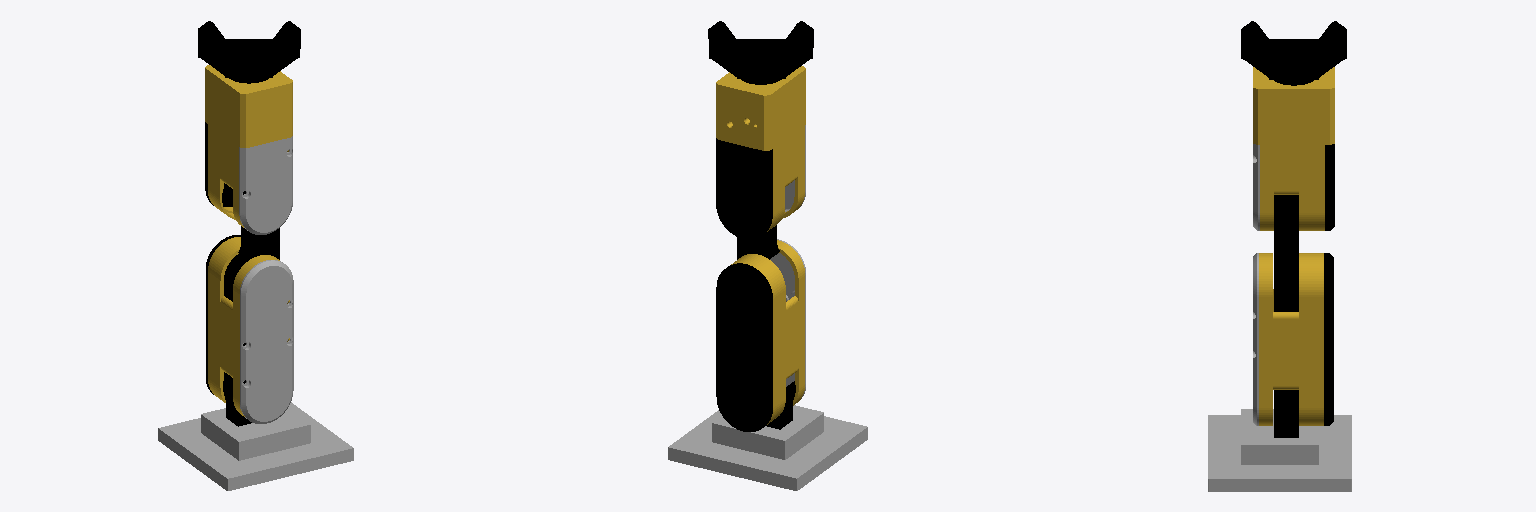
--- What the picture shows (computed from the rendered views, not written in the file) ---
The picture shows the robot from 3 angles, left to right: view 1: azimuth 30°, elevation 25°; view 2: azimuth 150°, elevation 25°; view 3: azimuth 270°, elevation 25°; orthographic projection.
Robot: Arm1 — 17 links, 16 joints (3 revolute, 1 continuous, 12 fixed); root link base_link; default pose: all joints at 0.
Links seen in each view (by area): view 1: base_link, Arm1_Fusion2URDF_Arm1_de-featured_doubleJoint_gearCover_v1_v1_1, Arm1_Fusion2URDF_Arm1_de-featured_gearCover_v1_v1_1, Arm1_Fusion2URDF_Arm1_de-featured_wristHousing_v1_v1_1, Arm1_de-featured_doubleJoint_bearingSupport_v1_1, Arm1_Fusion2URDF_EF_base_v1_v1_1, Arm1_Fusion2URDF_Arm1_de-featured_wristCover_v1_v1_1, Arm1_Fusion2URDF_Arm1_de-featured_armHousing_v1_v1_1, Arm1_Fusion2URDF_Arm1_de-featured_armHousing_v1__1__v1_1, Arm1_Fusion2URDF_Arm1_de-featured_bearingSupport_v1_v1_1, Arm1_Fusion2URDF_Arm1_de-featured_doubleJoint_electronicsCover_v, Arm1_Fusion2URDF_Arm1_de-featured_elbow_v1_v1_1 (+3 smaller); view 2: base_link, Arm1_Fusion2URDF_Arm1_de-featured_doubleJoint_electronicsCover_v, Arm1_Fusion2URDF_Arm1_de-featured_electronicsCover_v1_v1_v1_1, Arm1_Fusion2URDF_Arm1_de-featured_wristHousing_v1_v1_1, Arm1_de-featured_doubleJoint_bearingSupport_v1_1, Arm1_Fusion2URDF_EF_base_v1_v1_1, Arm1_Fusion2URDF_Arm1_de-featured_armHousing_v1_v1_1, Arm1_Fusion2URDF_Arm1_de-featured_wristCover_v1_v1_1, Arm1_Fusion2URDF_Arm1_de-featured_armHousing_v1__1__v1_1, Arm1_Fusion2URDF_Arm1_de-featured_bearingSupport_v1_v1_1, Arm1_Fusion2URDF_Arm1_de-featured_elbow_v1_v1_1, Arm1_Fusion2URDF_Arm1_de-featured_doubleJoint_gearCover_v1_v1_1 (+3 smaller); view 3: base_link, Arm1_Fusion2URDF_Arm1_de-featured_armHousing_v1_v1_1, Arm1_de-featured_doubleJoint_bearingSupport_v1_1, Arm1_Fusion2URDF_Arm1_de-featured_elbow_v1_v1_1, Arm1_Fusion2URDF_Arm1_de-featured_armHousing_v1__1__v1_1, Arm1_Fusion2URDF_Arm1_de-featured_wristHousing_v1_v1_1, Arm1_Fusion2URDF_EF_base_v1_v1_1, Arm1_Fusion2URDF_Arm1_de-featured_bearingSupport_v1_v1_1, Arm1_Fusion2URDF_Arm1_de-featured_wristCover_v1_v1_1, Arm1_Fusion2URDF_Arm1_de-featured_doubleJoint_electronicsCover_v, Arm1_de-featured_base_v1_1, Arm1_Fusion2URDF_Arm1_de-featured_doubleJoint_gearCover_v1_v1_1 (+5 smaller).
Link boxes in pixels (x1,y1,x2,y2): base_link: (158, 402, 353, 490); Arm1_Fusion2URDF_Arm1_de-featured_doubleJoint_gearCover_v1_v1_1: (240, 260, 293, 423); Arm1_Fusion2URDF_Arm1_de-featured_gearCover_v1_v1_1: (239, 136, 292, 234); Arm1_Fusion2URDF_Arm1_de-featured_wristHousing_v1_v1_1: (205, 85, 292, 141); Arm1_de-featured_doubleJoint_bearingSupport_v1_1: (208, 237, 240, 402); Arm1_Fusion2URDF_EF_base_v1_v1_1: (201, 39, 296, 83); Arm1_Fusion2URDF_Arm1_de-featured_wristCover_v1_v1_1: (205, 65, 292, 110); Arm1_Fusion2URDF_Arm1_de-featured_armHousing_v1_v1_1: (220, 255, 289, 416); Arm1_Fusion2URDF_Arm1_de-featured_armHousing_v1__1__v1_1: (220, 127, 292, 227); Arm1_Fusion2URDF_Arm1_de-featured_bearingSupport_v1_v1_1: (205, 116, 235, 219); Arm1_Fusion2URDF_Arm1_de-featured_doubleJoint_electronicsCover_v: (206, 235, 248, 394); Arm1_Fusion2URDF_Arm1_de-featured_elbow_v1_v1_1: (238, 226, 279, 259); base_link: (668, 405, 867, 490); Arm1_Fusion2URDF_Arm1_de-featured_doubleJoint_electronicsCover_v: (716, 263, 772, 431); Arm1_Fusion2URDF_Arm1_de-featured_electronicsCover_v1_v1_v1_1: (716, 138, 772, 239); Arm1_Fusion2URDF_Arm1_de-featured_wristHousing_v1_v1_1: (716, 87, 805, 144); Arm1_de-featured_doubleJoint_bearingSupport_v1_1: (731, 254, 785, 424); Arm1_Fusion2URDF_EF_base_v1_v1_1: (712, 39, 809, 84); Arm1_Fusion2URDF_Arm1_de-featured_armHousing_v1_v1_1: (777, 240, 804, 405); Arm1_Fusion2URDF_Arm1_de-featured_wristCover_v1_v1_1: (716, 66, 805, 112); Arm1_Fusion2URDF_Arm1_de-featured_armHousing_v1__1__v1_1: (782, 118, 805, 218); Arm1_Fusion2URDF_Arm1_de-featured_bearingSupport_v1_v1_1: (716, 131, 784, 231); Arm1_Fusion2URDF_Arm1_de-featured_elbow_v1_v1_1: (737, 225, 779, 259); Arm1_Fusion2URDF_Arm1_de-featured_doubleJoint_gearCover_v1_v1_1: (770, 239, 805, 398); base_link: (1208, 409, 1351, 491); Arm1_Fusion2URDF_Arm1_de-featured_armHousing_v1_v1_1: (1259, 253, 1298, 425); Arm1_de-featured_doubleJoint_bearingSupport_v1_1: (1299, 253, 1323, 425); Arm1_Fusion2URDF_Arm1_de-featured_elbow_v1_v1_1: (1274, 195, 1298, 311); Arm1_Fusion2URDF_Arm1_de-featured_armHousing_v1__1__v1_1: (1253, 137, 1298, 230); Arm1_Fusion2URDF_Arm1_de-featured_wristHousing_v1_v1_1: (1253, 105, 1334, 138); Arm1_Fusion2URDF_EF_base_v1_v1_1: (1244, 39, 1343, 85); Arm1_Fusion2URDF_Arm1_de-featured_bearingSupport_v1_v1_1: (1299, 137, 1334, 230); Arm1_Fusion2URDF_Arm1_de-featured_wristCover_v1_v1_1: (1253, 67, 1334, 106); Arm1_Fusion2URDF_Arm1_de-featured_doubleJoint_electronicsCover_v: (1324, 253, 1333, 425); Arm1_de-featured_base_v1_1: (1274, 390, 1298, 437); Arm1_Fusion2URDF_Arm1_de-featured_doubleJoint_gearCover_v1_v1_1: (1253, 253, 1258, 425).
Bounding box of the posed robot: 0.105 × 0.1 × 0.3255 m (x, y, z).
Meshes: 17 distinct files referenced, 17 mesh visuals loaded (17 binary STL).

URDF robot description (Arm1):
<?xml version="1.0" ?>
<!-- =================================================================================== -->
<!-- |    This document was autogenerated by xacro from [local-path]/ANT61/ANT61_ws/src/arm_description/urdf/Arm1.xacro | -->
<!-- |    EDITING THIS FILE BY HAND IS NOT RECOMMENDED                                 | -->
<!-- =================================================================================== -->
<robot name="Arm1">
    <material name="silver">
        <color rgba="0.700 0.700 0.700 1.000" />
    </material>
    <material name="gold">
        <color rgba="0.831 0.686 0.216 1.000" />
    </material>
    <material name="black">
        <color rgba="0 0 0 1.000" />
    </material>
    <material name="clear">
        <color rgba="0.7 0.7 0.7 0.6000" />
    </material>
    <transmission name="shoulder_tran">
        <type>transmission_interface/SimpleTransmission</type>
        <joint name="shoulder">
            <hardwareInterface>hardware_interface/PositionJointInterface</hardwareInterface>
        </joint>
        <actuator name="shoulder_actr">
            <hardwareInterface>hardware_interface/PositionJointInterface</hardwareInterface>
            <mechanicalReduction>1</mechanicalReduction>
        </actuator>
    </transmission>
    <transmission name="elbow_1_tran">
        <type>transmission_interface/SimpleTransmission</type>
        <joint name="elbow_1">
            <hardwareInterface>hardware_interface/PositionJointInterface</hardwareInterface>
        </joint>
        <actuator name="elbow_1_actr">
            <hardwareInterface>hardware_interface/PositionJointInterface</hardwareInterface>
            <mechanicalReduction>1</mechanicalReduction>
        </actuator>
    </transmission>
    <transmission name="elbow_2_tran">
        <type>transmission_interface/SimpleTransmission</type>
        <joint name="elbow_2">
            <hardwareInterface>hardware_interface/PositionJointInterface</hardwareInterface>
        </joint>
        <actuator name="elbow_2_actr">
            <hardwareInterface>hardware_interface/PositionJointInterface</hardwareInterface>
            <mechanicalReduction>1</mechanicalReduction>
        </actuator>
    </transmission>
    <transmission name="wrist_tran">
        <type>transmission_interface/SimpleTransmission</type>
        <joint name="wrist">
            <hardwareInterface>hardware_interface/PositionJointInterface</hardwareInterface>
        </joint>
        <actuator name="wrist_actr">
            <hardwareInterface>hardware_interface/PositionJointInterface</hardwareInterface>
            <mechanicalReduction>1</mechanicalReduction>
        </actuator>
    </transmission>
    <gazebo>
        <plugin filename="libgazebo_ros_control.so" name="control" />
        <plugin name="gazebo_ros_control" filename="libgazebo_ros_control.so">
            <robotNamespace>/</robotNamespace>
        </plugin>
    </gazebo>
    <gazebo reference="base_link">
        <material>Gazebo/Black</material>
        <mu1>0.2</mu1>
        <mu2>0.2</mu2>
        <selfCollide>true</selfCollide>
        <gravity>true</gravity>
    </gazebo>
    <gazebo reference="Arm1_de-featured_base_v1_1">
        <material>Gazebo/Silver</material>
        <mu1>0.2</mu1>
        <mu2>0.2</mu2>
        <selfCollide>true</selfCollide>
    </gazebo>
    <gazebo reference="Arm1_Fusion2URDF_Arm1_de-featured_doubleJoint_electronicsCover_v1_v1_1">
        <material>Gazebo/Silver</material>
        <mu1>0.2</mu1>
        <mu2>0.2</mu2>
        <selfCollide>true</selfCollide>
    </gazebo>
    <gazebo reference="Arm1_Fusion2URDF_Arm1_de-featured_armHousing_v1_v1_1">
        <material>Gazebo/Silver</material>
        <mu1>0.2</mu1>
        <mu2>0.2</mu2>
        <selfCollide>true</selfCollide>
    </gazebo>
    <gazebo reference="Arm1_Fusion2URDF_Arm1_de-featured_doubleJoint_gearCover_v1_v1_1">
        <material>Gazebo/Silver</material>
        <mu1>0.2</mu1>
        <mu2>0.2</mu2>
        <selfCollide>true</selfCollide>
    </gazebo>
    <gazebo reference="Arm1_Fusion2URDF_Arm1_de-featured_bearingSupport_v1_v1_1">
        <material>Gazebo/Silver</material>
        <mu1>0.2</mu1>
        <mu2>0.2</mu2>
        <selfCollide>true</selfCollide>
    </gazebo>
    <gazebo reference="Arm1_Fusion2URDF_Arm1_de-featured_gearCover_v1_v1_1">
        <material>Gazebo/Silver</material>
        <mu1>0.2</mu1>
        <mu2>0.2</mu2>
        <selfCollide>true</selfCollide>
    </gazebo>
    <gazebo reference="Arm1_Fusion2URDF_Arm1_de-featured_electronicsCover_v1_v1_v1_1">
        <material>Gazebo/Silver</material>
        <mu1>0.2</mu1>
        <mu2>0.2</mu2>
        <selfCollide>true</selfCollide>
    </gazebo>
    <gazebo reference="Arm1_Fusion2URDF_EF_grip_v1_v1__1__1">
        <material>Gazebo/Silver</material>
        <mu1>0.2</mu1>
        <mu2>0.2</mu2>
        <selfCollide>true</selfCollide>
    </gazebo>
    <gazebo reference="Arm1_Fusion2URDF_EF_grip_v1_v1__2__1">
        <material>Gazebo/Silver</material>
        <mu1>0.2</mu1>
        <mu2>0.2</mu2>
        <selfCollide>true</selfCollide>
    </gazebo>
    <gazebo reference="Arm1_Fusion2URDF_EF_grip_v1_v1_1">
        <material>Gazebo/Silver</material>
        <mu1>0.2</mu1>
        <mu2>0.2</mu2>
        <selfCollide>true</selfCollide>
    </gazebo>
    <gazebo reference="Arm1_Fusion2URDF_Arm1_de-featured_wristHousing_v1_v1_1">
        <material>Gazebo/Silver</material>
        <mu1>0.2</mu1>
        <mu2>0.2</mu2>
        <selfCollide>true</selfCollide>
    </gazebo>
    <gazebo reference="Arm1_Fusion2URDF_Arm1_de-featured_wristCover_v1_v1_1">
        <material>Gazebo/Silver</material>
        <mu1>0.2</mu1>
        <mu2>0.2</mu2>
        <selfCollide>true</selfCollide>
    </gazebo>
    <gazebo reference="Arm1_de-featured_doubleJoint_bearingSupport_v1_1">
        <material>Gazebo/Silver</material>
        <mu1>0.2</mu1>
        <mu2>0.2</mu2>
        <selfCollide>true</selfCollide>
    </gazebo>
    <gazebo reference="Arm1_Fusion2URDF_Arm1_de-featured_elbow_v1_v1_1">
        <material>Gazebo/Silver</material>
        <mu1>0.2</mu1>
        <mu2>0.2</mu2>
        <selfCollide>true</selfCollide>
    </gazebo>
    <gazebo reference="Arm1_Fusion2URDF_Arm1_de-featured_armHousing_v1__1__v1_1">
        <material>Gazebo/Silver</material>
        <mu1>0.2</mu1>
        <mu2>0.2</mu2>
        <selfCollide>true</selfCollide>
    </gazebo>
    <gazebo reference="Arm1_Fusion2URDF_EF_base_v1_v1_1">
        <material>Gazebo/Silver</material>
        <mu1>0.2</mu1>
        <mu2>0.2</mu2>
        <selfCollide>true</selfCollide>
    </gazebo>
    <link name="base_link">
        <inertial>
            <origin rpy="0 0 0" xyz="1.280959176633898e-06 0.00443398426662265 -0.04099319631573078" />
            <mass value="1.1942675675441157" />
            <inertia ixx="0.000838" ixy="-0.0" ixz="-0.0" iyy="0.000924" iyz="-0.0" izz="0.001654" />
        </inertial>
        <visual>
            <origin rpy="0 0 0" xyz="0 0 0" />
            <geometry>
                <mesh filename="package://arm_description/meshes/base_link.stl" scale="0.001 0.001 0.001" />
            </geometry>
            <material name="silver" />
        </visual>
        <collision>
            <origin rpy="0 0 0" xyz="0 0 0" />
            <geometry>
                <mesh filename="package://arm_description/meshes/base_link.stl" scale="0.001 0.001 0.001" />
            </geometry>
        </collision>
    </link>
    <link name="Arm1_de-featured_base_v1_1">
        <inertial>
            <origin rpy="0 0 0" xyz="0.011962350835025275 -2.911559882079473e-14 0.006684066539745213" />
            <mass value="0.015490383396516524" />
            <inertia ixx="1e-06" ixy="-0.0" ixz="-0.0" iyy="3e-06" iyz="-0.0" izz="3e-06" />
        </inertial>
        <visual>
            <origin rpy="0 0 0" xyz="0.012 -0.00875 0.025" />
            <geometry>
                <mesh filename="package://arm_description/meshes/Arm1_de-featured_base_v1_1.stl" scale="0.001 0.001 0.001" />
            </geometry>
            <material name="black" />
        </visual>
        <collision>
            <origin rpy="0 0 0" xyz="0.012 -0.00875 0.025" />
            <geometry>
                <mesh filename="package://arm_description/meshes/Arm1_de-featured_base_v1_1.stl" scale="0.001 0.001 0.001" />
            </geometry>
        </collision>
    </link>
    <link name="Arm1_Fusion2URDF_Arm1_de-featured_doubleJoint_electronicsCover_v1_v1_1">
        <inertial>
            <origin rpy="0 0 0" xyz="-2.3661406979947752e-15 0.004302521067873384 0.0424999999999864" />
            <mass value="0.038546383418622536" />
            <inertia ixx="4.9e-05" ixy="0.0" ixz="0.0" iyy="5.6e-05" iyz="0.0" izz="7e-06" />
        </inertial>
        <visual>
            <origin rpy="0 0 0" xyz="-0.0 -0.0355 0.0" />
            <geometry>
                <mesh filename="package://arm_description/meshes/Arm1_Fusion2URDF_Arm1_de-featured_doubleJoint_electronicsCover_v1_v1_1.stl" scale="0.001 0.001 0.001" />
            </geometry>
            <material name="black" />
        </visual>
        <collision>
            <origin rpy="0 0 0" xyz="-0.0 -0.0355 0.0" />
            <geometry>
                <mesh filename="package://arm_description/meshes/Arm1_Fusion2URDF_Arm1_de-featured_doubleJoint_electronicsCover_v1_v1_1.stl" scale="0.001 0.001 0.001" />
            </geometry>
        </collision>
    </link>
    <link name="Arm1_Fusion2URDF_Arm1_de-featured_armHousing_v1_v1_1">
        <inertial>
            <origin rpy="0 0 0" xyz="4.385771140597992e-15 -0.03474077761053653 1.472433286409114e-14" />
            <mass value="0.03324824384679508" />
            <inertia ixx="3.8e-05" ixy="0.0" ixz="-0.0" iyy="4.8e-05" iyz="0.0" izz="1.5e-05" />
        </inertial>
        <visual>
            <origin rpy="0 0 0" xyz="-0.0 -0.035 -0.0425" />
            <geometry>
                <mesh filename="package://arm_description/meshes/Arm1_Fusion2URDF_Arm1_de-featured_armHousing_v1_v1_1.stl" scale="0.001 0.001 0.001" />
            </geometry>
            <material name="gold" />
        </visual>
        <collision>
            <origin rpy="0 0 0" xyz="-0.0 -0.035 -0.0425" />
            <geometry>
                <mesh filename="package://arm_description/meshes/Arm1_Fusion2URDF_Arm1_de-featured_armHousing_v1_v1_1.stl" scale="0.001 0.001 0.001" />
            </geometry>
        </collision>
    </link>
    <link name="Arm1_Fusion2URDF_Arm1_de-featured_doubleJoint_gearCover_v1_v1_1">
        <inertial>
            <origin rpy="0 0 0" xyz="-3.387755705511744e-14 -0.0025800471702999896 -0.04249999999999356" />
            <mass value="0.04082339590091089" />
            <inertia ixx="3.8e-05" ixy="0.0" ixz="0.0" iyy="4.5e-05" iyz="0.0" izz="6e-06" />
        </inertial>
        <visual>
            <origin rpy="0 0 0" xyz="-0.0 0.01 -0.085" />
            <geometry>
                <mesh filename="package://arm_description/meshes/Arm1_Fusion2URDF_Arm1_de-featured_doubleJoint_gearCover_v1_v1_1.stl" scale="0.001 0.001 0.001" />
            </geometry>
            <material name="clear" />
        </visual>
        <collision>
            <origin rpy="0 0 0" xyz="-0.0 0.01 -0.085" />
            <geometry>
                <mesh filename="package://arm_description/meshes/Arm1_Fusion2URDF_Arm1_de-featured_doubleJoint_gearCover_v1_v1_1.stl" scale="0.001 0.001 0.001" />
            </geometry>
        </collision>
    </link>
    <link name="Arm1_Fusion2URDF_Arm1_de-featured_bearingSupport_v1_v1_1">
        <inertial>
            <origin rpy="0 0 0" xyz="-0.020999787123567593 0.011936593580704046 -0.03507452173313677" />
            <mass value="0.025170746465891514" />
            <inertia ixx="2e-05" ixy="0.0" ixz="-0.0" iyy="2.7e-05" iyz="-2e-06" izz="9e-06" />
        </inertial>
        <visual>
            <origin rpy="0 0 0" xyz="-0.021 -0.018 -0.207" />
            <geometry>
                <mesh filename="package://arm_description/meshes/Arm1_Fusion2URDF_Arm1_de-featured_bearingSupport_v1_v1_1.stl" scale="0.001 0.001 0.001" />
            </geometry>
            <material name="gold" />
        </visual>
        <collision>
            <origin rpy="0 0 0" xyz="-0.021 -0.018 -0.207" />
            <geometry>
                <mesh filename="package://arm_description/meshes/Arm1_Fusion2URDF_Arm1_de-featured_bearingSupport_v1_v1_1.stl" scale="0.001 0.001 0.001" />
            </geometry>
        </collision>
    </link>
    <link name="Arm1_Fusion2URDF_Arm1_de-featured_gearCover_v1_v1_1">
        <inertial>
            <origin rpy="0 0 0" xyz="-0.0001264298888167157 -0.0025052801286150703 0.023017088747785658" />
            <mass value="0.025259547950496876" />
            <inertia ixx="1e-05" ixy="0.0" ixz="0.0" iyy="1.4e-05" iyz="-0.0" izz="4e-06" />
        </inertial>
        <visual>
            <origin rpy="0 0 0" xyz="0.0 0.0095 -0.15" />
            <geometry>
                <mesh filename="package://arm_description/meshes/Arm1_Fusion2URDF_Arm1_de-featured_gearCover_v1_v1_1.stl" scale="0.001 0.001 0.001" />
            </geometry>
            <material name="clear" />
        </visual>
        <collision>
            <origin rpy="0 0 0" xyz="0.0 0.0095 -0.15" />
            <geometry>
                <mesh filename="package://arm_description/meshes/Arm1_Fusion2URDF_Arm1_de-featured_gearCover_v1_v1_1.stl" scale="0.001 0.001 0.001" />
            </geometry>
        </collision>
    </link>
    <link name="Arm1_Fusion2URDF_Arm1_de-featured_electronicsCover_v1_v1_v1_1">
        <inertial>
            <origin rpy="0 0 0" xyz="-6.349021698318172e-14 0.004347631607048839 0.016045953544834762" />
            <mass value="0.02203612800618232" />
            <inertia ixx="9e-06" ixy="0.0" ixz="0.0" iyy="1.3e-05" iyz="-0.0" izz="4e-06" />
        </inertial>
        <visual>
            <origin rpy="0 0 0" xyz="0.0 -0.036 -0.15" />
            <geometry>
                <mesh filename="package://arm_description/meshes/Arm1_Fusion2URDF_Arm1_de-featured_electronicsCover_v1_v1_v1_1.stl" scale="0.001 0.001 0.001" />
            </geometry>
            <material name="black" />
        </visual>
        <collision>
            <origin rpy="0 0 0" xyz="0.0 -0.036 -0.15" />
            <geometry>
                <mesh filename="package://arm_description/meshes/Arm1_Fusion2URDF_Arm1_de-featured_electronicsCover_v1_v1_v1_1.stl" scale="0.001 0.001 0.001" />
            </geometry>
        </collision>
    </link>
    <link name="Arm1_Fusion2URDF_EF_grip_v1_v1__1__1">
        <inertial>
            <origin rpy="0 0 0" xyz="-0.001850083275097971 -0.003204213495749954 0.006397387641960739" />
            <mass value="0.009673831386691303" />
            <inertia ixx="0.0" ixy="0.0" ixz="0.0" iyy="1e-06" iyz="0.0" izz="1e-06" />
        </inertial>
        <visual>
            <origin rpy="0 0 0" xyz="0.015 0.011731 -0.2584" />
            <geometry>
                <mesh filename="package://arm_description/meshes/Arm1_Fusion2URDF_EF_grip_v1_v1__1__1.stl" scale="0.001 0.001 0.001" />
            </geometry>
            <material name="black" />
        </visual>
        <collision>
            <origin rpy="0 0 0" xyz="0.015 0.011731 -0.2584" />
            <geometry>
                <mesh filename="package://arm_description/meshes/Arm1_Fusion2URDF_EF_grip_v1_v1__1__1.stl" scale="0.001 0.001 0.001" />
            </geometry>
        </collision>
    </link>
    <link name="Arm1_Fusion2URDF_EF_grip_v1_v1__2__1">
        <inertial>
            <origin rpy="0 0 0" xyz="0.003700177939647664 6.5758094282275525e-09 0.0063973876419607945" />
            <mass value="0.009673831386691303" />
            <inertia ixx="1e-06" ixy="0.0" ixz="-0.0" iyy="0.0" iyz="0.0" izz="1e-06" />
        </inertial>
        <visual>
            <origin rpy="0 0 0" xyz="-0.03 -0.01425 -0.2584" />
            <geometry>
                <mesh filename="package://arm_description/meshes/Arm1_Fusion2URDF_EF_grip_v1_v1__2__1.stl" scale="0.001 0.001 0.001" />
            </geometry>
            <material name="black" />
        </visual>
        <collision>
            <origin rpy="0 0 0" xyz="-0.03 -0.01425 -0.2584" />
            <geometry>
                <mesh filename="package://arm_description/meshes/Arm1_Fusion2URDF_EF_grip_v1_v1__2__1.stl" scale="0.001 0.001 0.001" />
            </geometry>
        </collision>
    </link>
    <link name="Arm1_Fusion2URDF_EF_grip_v1_v1_1">
        <inertial>
            <origin rpy="0 0 0" xyz="-0.0018500946647350483 0.003204206919938682 0.006397387641961405" />
            <mass value="0.009673831386691303" />
            <inertia ixx="0.0" ixy="-0.0" ixz="0.0" iyy="1e-06" iyz="-0.0" izz="1e-06" />
        </inertial>
        <visual>
            <origin rpy="0 0 0" xyz="0.015 -0.040231 -0.2584" />
            <geometry>
                <mesh filename="package://arm_description/meshes/Arm1_Fusion2URDF_EF_grip_v1_v1_1.stl" scale="0.001 0.001 0.001" />
            </geometry>
            <material name="black" />
        </visual>
        <collision>
            <origin rpy="0 0 0" xyz="0.015 -0.040231 -0.2584" />
            <geometry>
                <mesh filename="package://arm_description/meshes/Arm1_Fusion2URDF_EF_grip_v1_v1_1.stl" scale="0.001 0.001 0.001" />
            </geometry>
        </collision>
    </link>
    <link name="Arm1_Fusion2URDF_Arm1_de-featured_wristHousing_v1_v1_1">
        <inertial>
            <origin rpy="0 0 0" xyz="0.02037011900079004 -0.025411886196642863 0.013328921156734314" />
            <mass value="0.038841206654025386" />
            <inertia ixx="2e-05" ixy="0.0" ixz="0.0" iyy="1.3e-05" iyz="-0.0" izz="2.8e-05" />
        </inertial>
        <visual>
            <origin rpy="0 0 0" xyz="0.0205 -0.041 -0.207" />
            <geometry>
                <mesh filename="package://arm_description/meshes/Arm1_Fusion2URDF_Arm1_de-featured_wristHousing_v1_v1_1.stl" scale="0.001 0.001 0.001" />
            </geometry>
            <material name="gold" />
        </visual>
        <collision>
            <origin rpy="0 0 0" xyz="0.0205 -0.041 -0.207" />
            <geometry>
                <mesh filename="package://arm_description/meshes/Arm1_Fusion2URDF_Arm1_de-featured_wristHousing_v1_v1_1.stl" scale="0.001 0.001 0.001" />
            </geometry>
        </collision>
    </link>
    <link name="Arm1_Fusion2URDF_Arm1_de-featured_wristCover_v1_v1_1">
        <inertial>
            <origin rpy="0 0 0" xyz="0.02049999999993821 -0.025323377914748035 0.008807906838274399" />
            <mass value="0.03818700044315975" />
            <inertia ixx="1.5e-05" ixy="0.0" ixz="-0.0" iyy="8e-06" iyz="0.0" izz="2.2e-05" />
        </inertial>
        <visual>
            <origin rpy="0 0 0" xyz="0.0205 -0.041 -0.2315" />
            <geometry>
                <mesh filename="package://arm_description/meshes/Arm1_Fusion2URDF_Arm1_de-featured_wristCover_v1_v1_1.stl" scale="0.001 0.001 0.001" />
            </geometry>
            <material name="gold" />
        </visual>
        <collision>
            <origin rpy="0 0 0" xyz="0.0205 -0.041 -0.2315" />
            <geometry>
                <mesh filename="package://arm_description/meshes/Arm1_Fusion2URDF_Arm1_de-featured_wristCover_v1_v1_1.stl" scale="0.001 0.001 0.001" />
            </geometry>
        </collision>
    </link>
    <link name="Arm1_de-featured_doubleJoint_bearingSupport_v1_1">
        <inertial>
            <origin rpy="0 0 0" xyz="-3.3444607263137293e-15 0.00840699644505781 0.042499999999982316" />
            <mass value="0.03393341225951787" />
            <inertia ixx="5.8e-05" ixy="-0.0" ixz="-0.0" iyy="6.8e-05" iyz="-0.0" izz="1.3e-05" />
        </inertial>
        <visual>
            <origin rpy="0 0 0" xyz="-0.0 -0.0175 0.0" />
            <geometry>
                <mesh filename="package://arm_description/meshes/Arm1_de-featured_doubleJoint_bearingSupport_v1_1.stl" scale="0.001 0.001 0.001" />
            </geometry>
            <material name="gold" />
        </visual>
        <collision>
            <origin rpy="0 0 0" xyz="-0.0 -0.0175 0.0" />
            <geometry>
                <mesh filename="package://arm_description/meshes/Arm1_de-featured_doubleJoint_bearingSupport_v1_1.stl" scale="0.001 0.001 0.001" />
            </geometry>
        </collision>
    </link>
    <link name="Arm1_Fusion2URDF_Arm1_de-featured_elbow_v1_v1_1">
        <inertial>
            <origin rpy="0 0 0" xyz="0.008561725794446499 -0.008750000000000011 0.03250000000004309" />
            <mass value="0.023977309097512407" />
            <inertia ixx="1.1e-05" ixy="0.0" ixz="-0.0" iyy="1.2e-05" iyz="-0.0" izz="2e-06" />
        </inertial>
        <visual>
            <origin rpy="0 0 0" xyz="-0.0 -0.0175 -0.085" />
            <geometry>
                <mesh filename="package://arm_description/meshes/Arm1_Fusion2URDF_Arm1_de-featured_elbow_v1_v1_1.stl" scale="0.001 0.001 0.001" />
            </geometry>
            <material name="black" />
        </visual>
        <collision>
            <origin rpy="0 0 0" xyz="-0.0 -0.0175 -0.085" />
            <geometry>
                <mesh filename="package://arm_description/meshes/Arm1_Fusion2URDF_Arm1_de-featured_elbow_v1_v1_1.stl" scale="0.001 0.001 0.001" />
            </geometry>
        </collision>
    </link>
    <link name="Arm1_Fusion2URDF_Arm1_de-featured_armHousing_v1__1__v1_1">
        <inertial>
            <origin rpy="0 0 0" xyz="-2.991185227266448e-05 -0.00030814304486015854 0.027559175237004824" />
            <mass value="0.024910283038556406" />
            <inertia ixx="1.5e-05" ixy="-0.0" ixz="-0.0" iyy="2.2e-05" iyz="-0.0" izz="1.1e-05" />
        </inertial>
        <visual>
            <origin rpy="0 0 0" xyz="0.0 0.0 -0.15" />
            <geometry>
                <mesh filename="package://arm_description/meshes/Arm1_Fusion2URDF_Arm1_de-featured_armHousing_v1__1__v1_1.stl" scale="0.001 0.001 0.001" />
            </geometry>
            <material name="gold" />
        </visual>
        <collision>
            <origin rpy="0 0 0" xyz="0.0 0.0 -0.15" />
            <geometry>
                <mesh filename="package://arm_description/meshes/Arm1_Fusion2URDF_Arm1_de-featured_armHousing_v1__1__v1_1.stl" scale="0.001 0.001 0.001" />
            </geometry>
        </collision>
    </link>
    <link name="Arm1_Fusion2URDF_EF_base_v1_v1_1">
        <inertial>
            <origin rpy="0 0 0" xyz="-6.13536998983477e-14 -5.533767888366015e-16 0.01056352610936051" />
            <mass value="0.052083727437172454" />
            <inertia ixx="1.4e-05" ixy="0.0" ixz="0.0" iyy="1.4e-05" iyz="-0.0" izz="2.5e-05" />
        </inertial>
        <visual>
            <origin rpy="0 0 0" xyz="0.0 -0.01425 -0.245" />
            <geometry>
                <mesh filename="package://arm_description/meshes/Arm1_Fusion2URDF_EF_base_v1_v1_1.stl" scale="0.001 0.001 0.001" />
            </geometry>
            <material name="black" />
        </visual>
        <collision>
            <origin rpy="0 0 0" xyz="0.0 -0.01425 -0.245" />
            <geometry>
                <mesh filename="package://arm_description/meshes/Arm1_Fusion2URDF_EF_base_v1_v1_1.stl" scale="0.001 0.001 0.001" />
            </geometry>
        </collision>
    </link>
    <joint name="Rigid1" type="fixed">
        <origin rpy="0 0 0" xyz="-0.012 0.00875 -0.025" />
        <parent link="base_link" />
        <child link="Arm1_de-featured_base_v1_1" />
    </joint>
    <joint name="Rigid2" type="fixed">
        <origin rpy="0 0 0" xyz="0.0 0.018 0.0" />
        <parent link="Arm1_de-featured_doubleJoint_bearingSupport_v1_1" />
        <child link="Arm1_Fusion2URDF_Arm1_de-featured_doubleJoint_electronicsCover_v1_v1_1" />
    </joint>
    <joint name="Rigid3" type="fixed">
        <origin rpy="0 0 0" xyz="0.0 0.0175 0.0425" />
        <parent link="Arm1_de-featured_doubleJoint_bearingSupport_v1_1" />
        <child link="Arm1_Fusion2URDF_Arm1_de-featured_armHousing_v1_v1_1" />
    </joint>
    <joint name="Rigid4" type="fixed">
        <origin rpy="0 0 0" xyz="0.0 -0.045 0.0425" />
        <parent link="Arm1_Fusion2URDF_Arm1_de-featured_armHousing_v1_v1_1" />
        <child link="Arm1_Fusion2URDF_Arm1_de-featured_doubleJoint_gearCover_v1_v1_1" />
    </joint>
    <joint name="Rigid5" type="fixed">
        <origin rpy="0 0 0" xyz="0.021 0.018 0.057" />
        <parent link="Arm1_Fusion2URDF_Arm1_de-featured_armHousing_v1__1__v1_1" />
        <child link="Arm1_Fusion2URDF_Arm1_de-featured_bearingSupport_v1_v1_1" />
    </joint>
    <joint name="Rigid6" type="fixed">
        <origin rpy="0 0 0" xyz="0.0 -0.0095 0.0" />
        <parent link="Arm1_Fusion2URDF_Arm1_de-featured_armHousing_v1__1__v1_1" />
        <child link="Arm1_Fusion2URDF_Arm1_de-featured_gearCover_v1_v1_1" />
    </joint>
    <joint name="Rigid7" type="fixed">
        <origin rpy="0 0 0" xyz="-0.021 0.018 -0.057" />
        <parent link="Arm1_Fusion2URDF_Arm1_de-featured_bearingSupport_v1_v1_1" />
        <child link="Arm1_Fusion2URDF_Arm1_de-featured_electronicsCover_v1_v1_v1_1" />
    </joint>
    <joint name="Rigid8" type="fixed">
        <origin rpy="0 0 0" xyz="-0.015 -0.025981 0.0134" />
        <parent link="Arm1_Fusion2URDF_EF_base_v1_v1_1" />
        <child link="Arm1_Fusion2URDF_EF_grip_v1_v1__1__1" />
    </joint>
    <joint name="Rigid9" type="fixed">
        <origin rpy="0 0 0" xyz="0.03 0.0 0.0134" />
        <parent link="Arm1_Fusion2URDF_EF_base_v1_v1_1" />
        <child link="Arm1_Fusion2URDF_EF_grip_v1_v1__2__1" />
    </joint>
    <joint name="Rigid10" type="fixed">
        <origin rpy="0 0 0" xyz="-0.015 0.025981 0.0134" />
        <parent link="Arm1_Fusion2URDF_EF_base_v1_v1_1" />
        <child link="Arm1_Fusion2URDF_EF_grip_v1_v1_1" />
    </joint>
    <joint name="Rigid11" type="fixed">
        <origin rpy="0 0 0" xyz="-0.0415 0.023 0.0" />
        <parent link="Arm1_Fusion2URDF_Arm1_de-featured_bearingSupport_v1_v1_1" />
        <child link="Arm1_Fusion2URDF_Arm1_de-featured_wristHousing_v1_v1_1" />
    </joint>
    <joint name="Rigid12" type="fixed">
        <origin rpy="0 0 0" xyz="0.0 0.0 0.0245" />
        <parent link="Arm1_Fusion2URDF_Arm1_de-featured_wristHousing_v1_v1_1" />
        <child link="Arm1_Fusion2URDF_Arm1_de-featured_wristCover_v1_v1_1" />
    </joint>
    <joint name="shoulder" type="revolute">
        <origin rpy="0 0 0" xyz="0.012 0.00875 0.025" />
        <parent link="Arm1_de-featured_base_v1_1" />
        <child link="Arm1_de-featured_doubleJoint_bearingSupport_v1_1" />
        <axis xyz="-0.0 1.0 -0.0" />
        <limit effort="100" lower="-1.22173" upper="1.22173" velocity="100" />
    </joint>
    <joint name="elbow_1" type="revolute">
        <origin rpy="0 0 0" xyz="0.0 0.0 0.085" />
        <parent link="Arm1_de-featured_doubleJoint_bearingSupport_v1_1" />
        <child link="Arm1_Fusion2URDF_Arm1_de-featured_elbow_v1_v1_1" />
        <axis xyz="-0.0 1.0 0.0" />
        <limit effort="100" lower="-1.884956" upper="1.291544" velocity="100" />
    </joint>
    <joint name="elbow_2" type="revolute">
        <origin rpy="0 0 0" xyz="-0.0 -0.0175 0.065" />
        <parent link="Arm1_Fusion2URDF_Arm1_de-featured_elbow_v1_v1_1" />
        <child link="Arm1_Fusion2URDF_Arm1_de-featured_armHousing_v1__1__v1_1" />
        <axis xyz="-0.0 1.0 0.0" />
        <limit effort="100" lower="-1.884956" upper="1.134464" velocity="100" />
    </joint>
    <joint name="wrist" type="continuous">
        <origin rpy="0 0 0" xyz="0.0205 -0.02675 0.0135" />
        <parent link="Arm1_Fusion2URDF_Arm1_de-featured_wristCover_v1_v1_1" />
        <child link="Arm1_Fusion2URDF_EF_base_v1_v1_1" />
        <axis xyz="-0.0 -0.0 1.0" />
    </joint>
</robot>
